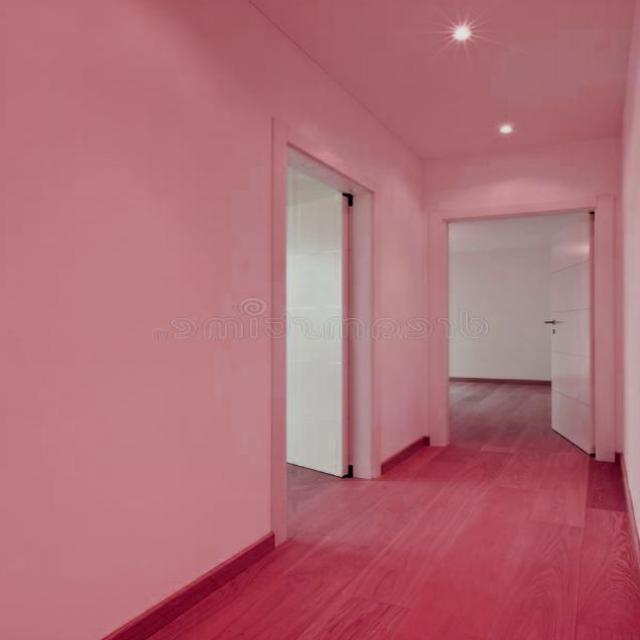door: (542, 203, 607, 458)
